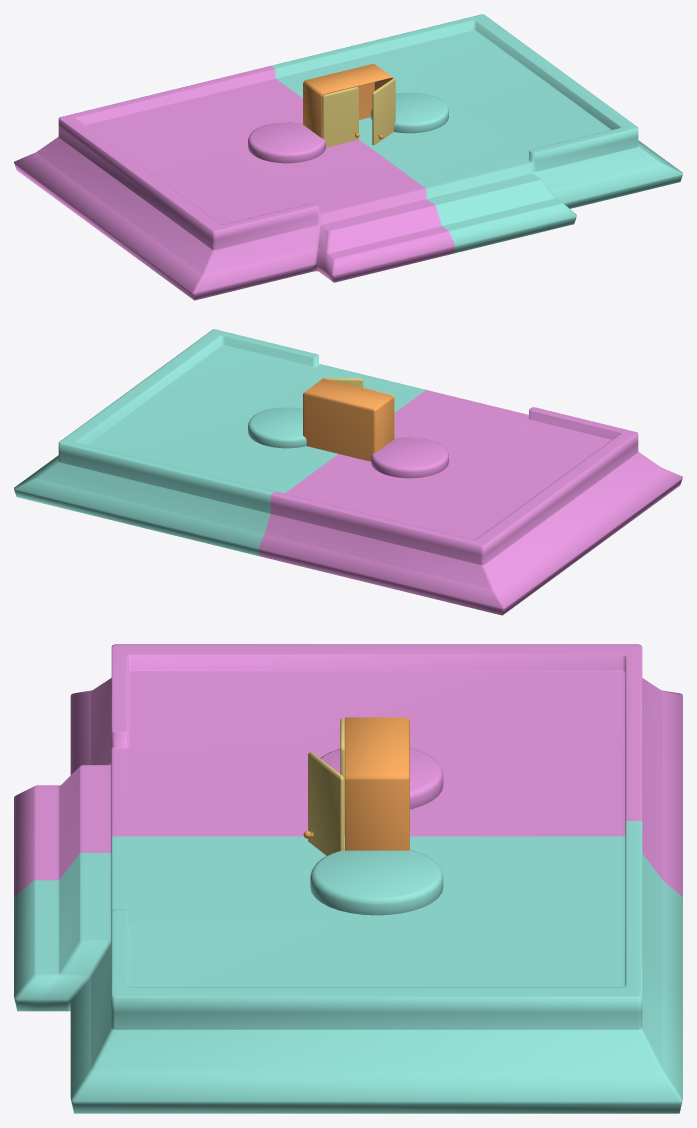
3 renders of one model, top to bottom at view 1: azimuth 30°, elevation 25°; view 2: azimuth 150°, elevation 25°; view 3: azimuth 270°, elevation 25°, orthographic. The views are drawn at different scales.
Visible parts, largest first — view 1: platform, wardrobe, platform.002, platform.001; view 2: platform, wardrobe, platform.002, platform.001; view 3: platform, wardrobe, platform.001, platform.002.
Boxes of the visible parts, x1=… form: platform: x1=14, y1=14, x2=682, y2=300; wardrobe: x1=303, y1=63, x2=395, y2=147; platform.002: x1=248, y1=122, x2=325, y2=163; platform.001: x1=371, y1=92, x2=448, y2=133; platform: x1=14, y1=329, x2=682, y2=615; wardrobe: x1=303, y1=378, x2=394, y2=461; platform.002: x1=371, y1=437, x2=448, y2=478; platform.001: x1=248, y1=407, x2=306, y2=448; platform: x1=14, y1=644, x2=682, y2=1113; wardrobe: x1=303, y1=717, x2=409, y2=855; platform.001: x1=310, y1=849, x2=443, y2=915; platform.002: x1=320, y1=748, x2=443, y2=809.
Bounding box in the file's own units: 847 × 161 × 587.
